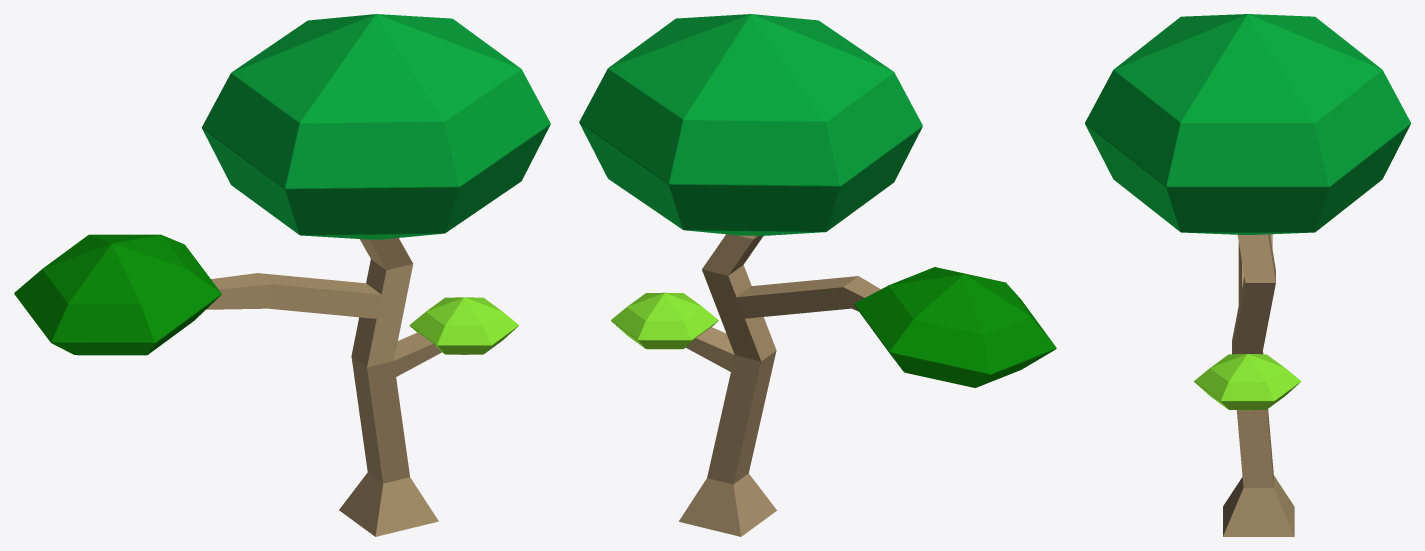
The model's file is Arbre_Plaine.fbx.
3 views of the same model, side by side, from view 1: azimuth 30°, elevation 25°; view 2: azimuth 150°, elevation 25°; view 3: azimuth 270°, elevation 25° (orthographic). The views are drawn at different scales.
Visible parts, largest first — view 1: Sphere.001, Tronc_arbre, Sphere.002, Sphere; view 2: Sphere.001, Tronc_arbre, Sphere.002, Sphere; view 3: Sphere.001, Tronc_arbre, Sphere.
Boxes of the visible parts, left/top/right/bottom form: Sphere.001: left=202, top=14, right=550, bottom=239; Tronc_arbre: left=206, top=238, right=441, bottom=536; Sphere.002: left=14, top=234, right=221, bottom=355; Sphere: left=409, top=297, right=518, bottom=354; Sphere.001: left=579, top=14, right=922, bottom=236; Tronc_arbre: left=679, top=234, right=880, bottom=536; Sphere.002: left=854, top=267, right=1056, bottom=387; Sphere: left=611, top=292, right=718, bottom=349; Sphere.001: left=1085, top=14, right=1410, bottom=234; Tronc_arbre: left=1223, top=234, right=1294, bottom=536; Sphere: left=1194, top=354, right=1301, bottom=410.
Bounding box in the file's own units: 1419 × 1534 × 909.
